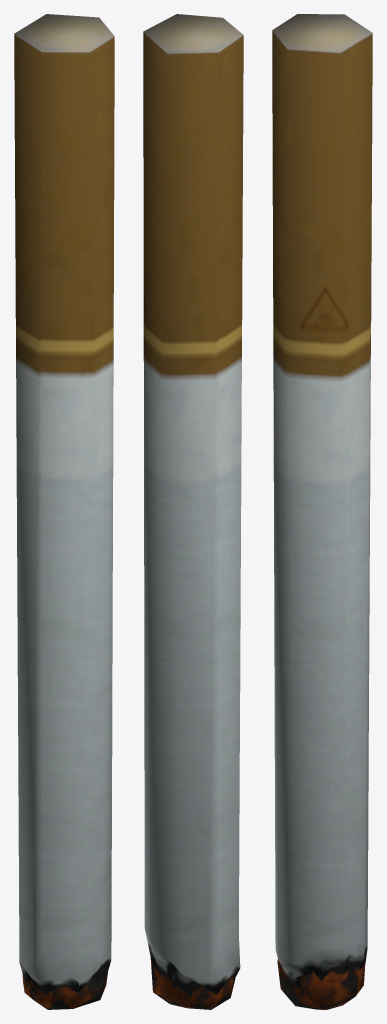
File: MSCigaretteLit.fbx
3 views of the same model, side by side, from view 1: azimuth 90°, elevation 25°; view 2: azimuth 150°, elevation 25°; view 3: azimuth 270°, elevation 25° (orthographic).
Visible parts, largest first — view 1: ember; view 2: ember; view 3: ember.
Part boxes in pixels (box(x1,y1,x2,y2)): ember: box(14, 14, 114, 1009); ember: box(143, 14, 243, 1009); ember: box(272, 14, 372, 1009).
Bounding box in the file's own units: 0.00672 × 0.075 × 0.00706.
